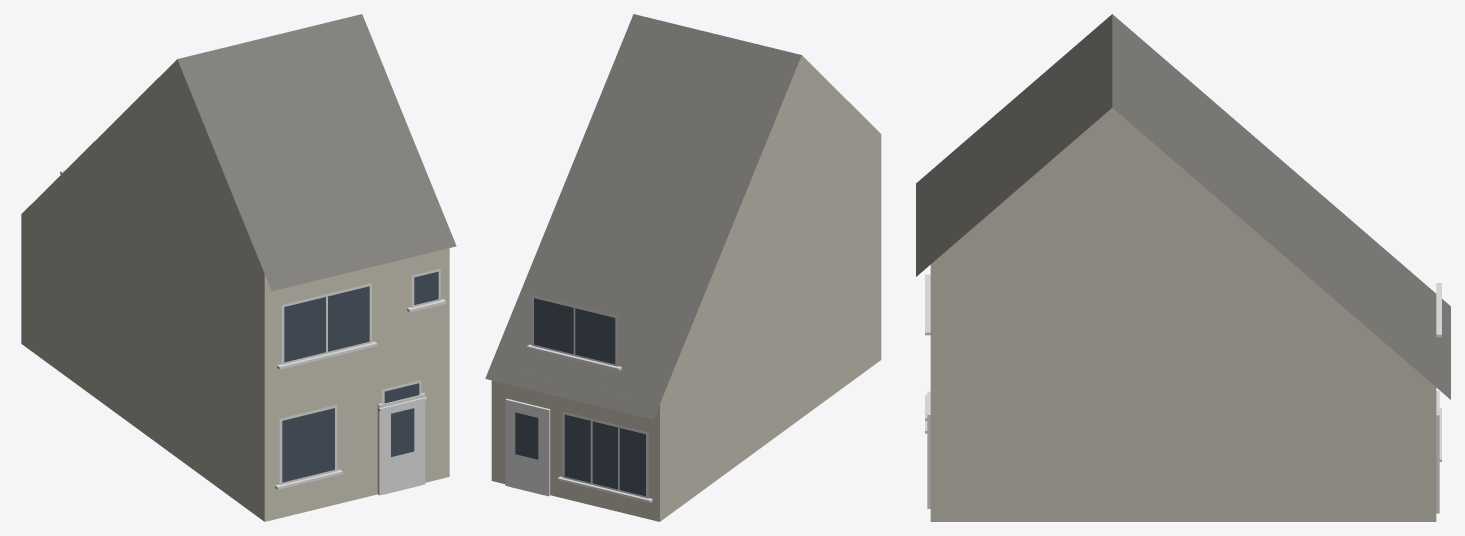
The model's file is nd-tw-gable__cream__2__gable__long__solid.glb.
3 renders of one model, left to right at view 1: azimuth 30°, elevation 25°; view 2: azimuth 150°, elevation 25°; view 3: azimuth 270°, elevation 25°, orthographic. The views are drawn at different scales.
Parts seen in each view (by area): view 1: nd-tw-gable__cream__2__gable__long__solid; view 2: nd-tw-gable__cream__2__gable__long__solid; view 3: nd-tw-gable__cream__2__gable__long__solid.
Part boxes in pixels (x1,y1,x2,y2): nd-tw-gable__cream__2__gable__long__solid: (21, 14, 456, 521); nd-tw-gable__cream__2__gable__long__solid: (485, 14, 881, 521); nd-tw-gable__cream__2__gable__long__solid: (916, 14, 1450, 521).
Size of the model in its own units: 4.54 by 9.37 by 10.96.
